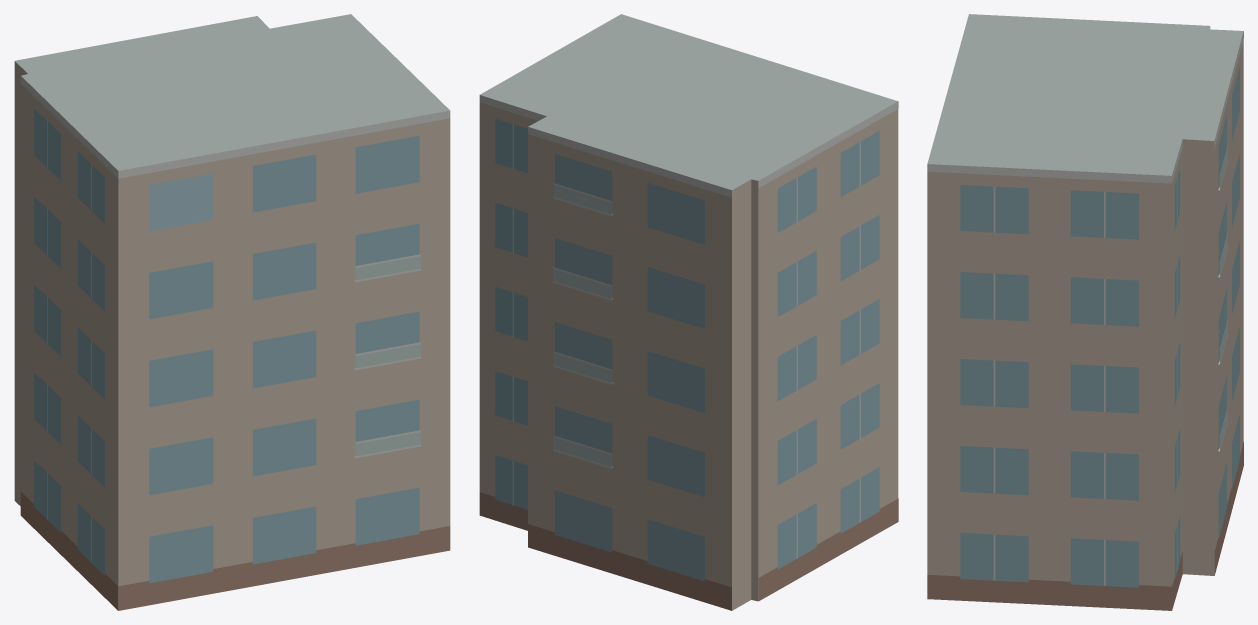
Rendered from survey-upis-33012833.glb.
3 renders of one model, left to right at view 1: azimuth 30°, elevation 25°; view 2: azimuth 150°, elevation 25°; view 3: azimuth 270°, elevation 25°, orthographic. The views are drawn at different scales.
Visible parts, largest first — view 1: survey-upis-33012833.tmp; view 2: survey-upis-33012833.tmp; view 3: survey-upis-33012833.tmp.
Part boxes in pixels (box(x1,y1,x2,y2)): survey-upis-33012833.tmp: box(14, 14, 450, 610); survey-upis-33012833.tmp: box(479, 14, 898, 610); survey-upis-33012833.tmp: box(927, 14, 1243, 610).
Bounding box in the file's own units: 11.1 × 13.9 × 9.17.
